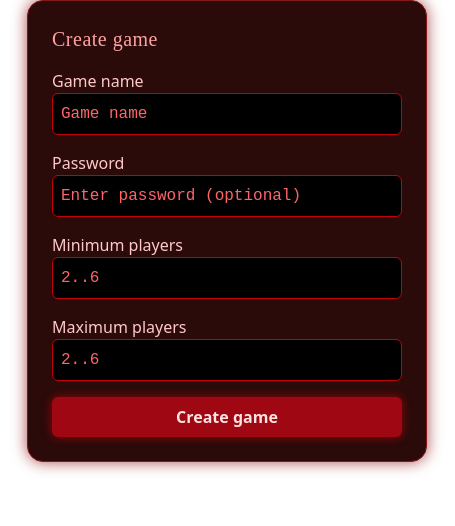
it: FormCreateGame › muestra error y deshabilita el botón si min > max
Type "5" into the number field labelled "Minimum players" at (227, 278), box [52,257,402,299]
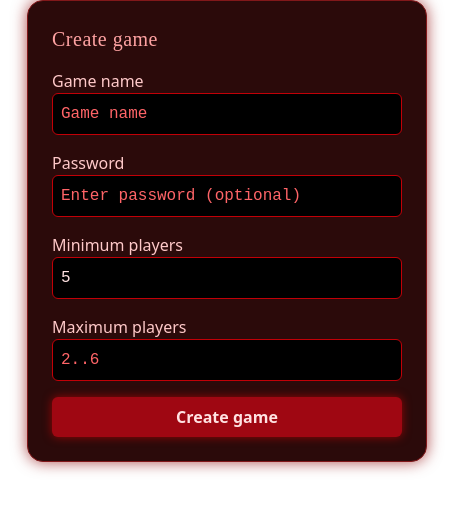
Type "3" into the number field labelled "Maximum players" at (227, 360), box [52,339,402,381]
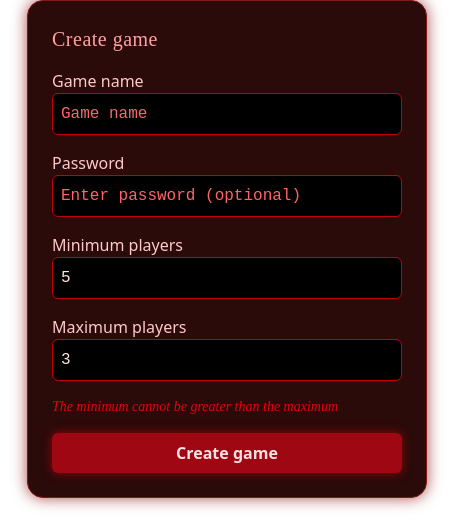
Expected: the text "The minimum cannot be greater than the maximum" is shown, [52,399,338,414]
Expected: the button "Create game" is disabled, [52,433,402,473]
